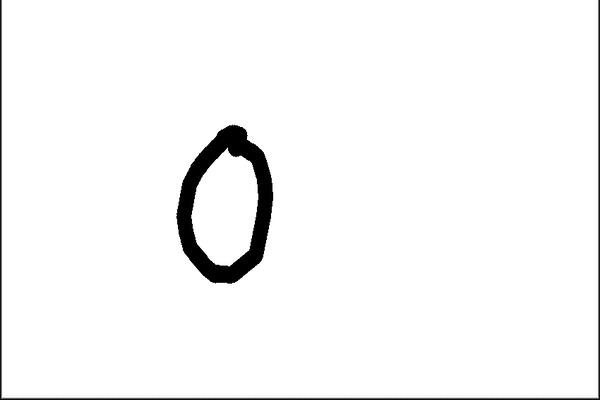O: (158, 114, 288, 301)
